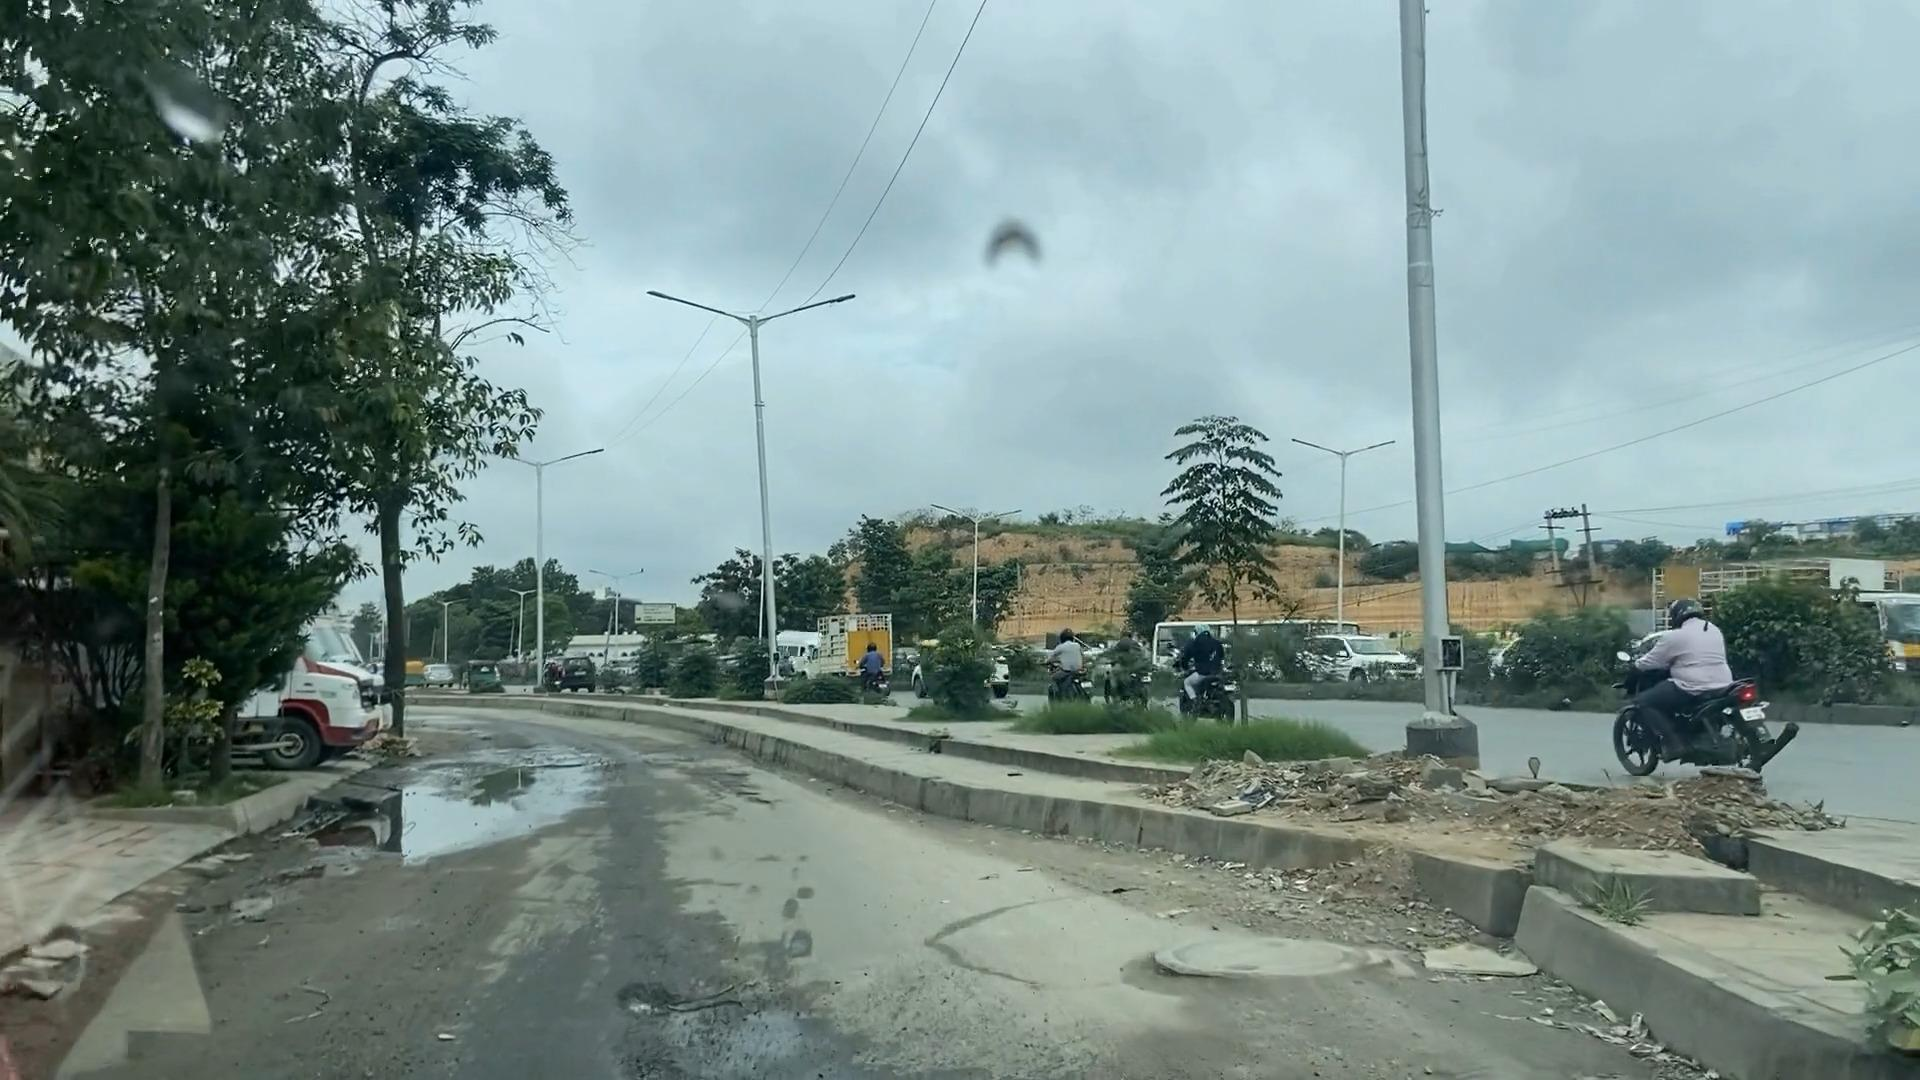RoadDamages: (1127, 910, 1420, 1009), (607, 950, 812, 1080)
